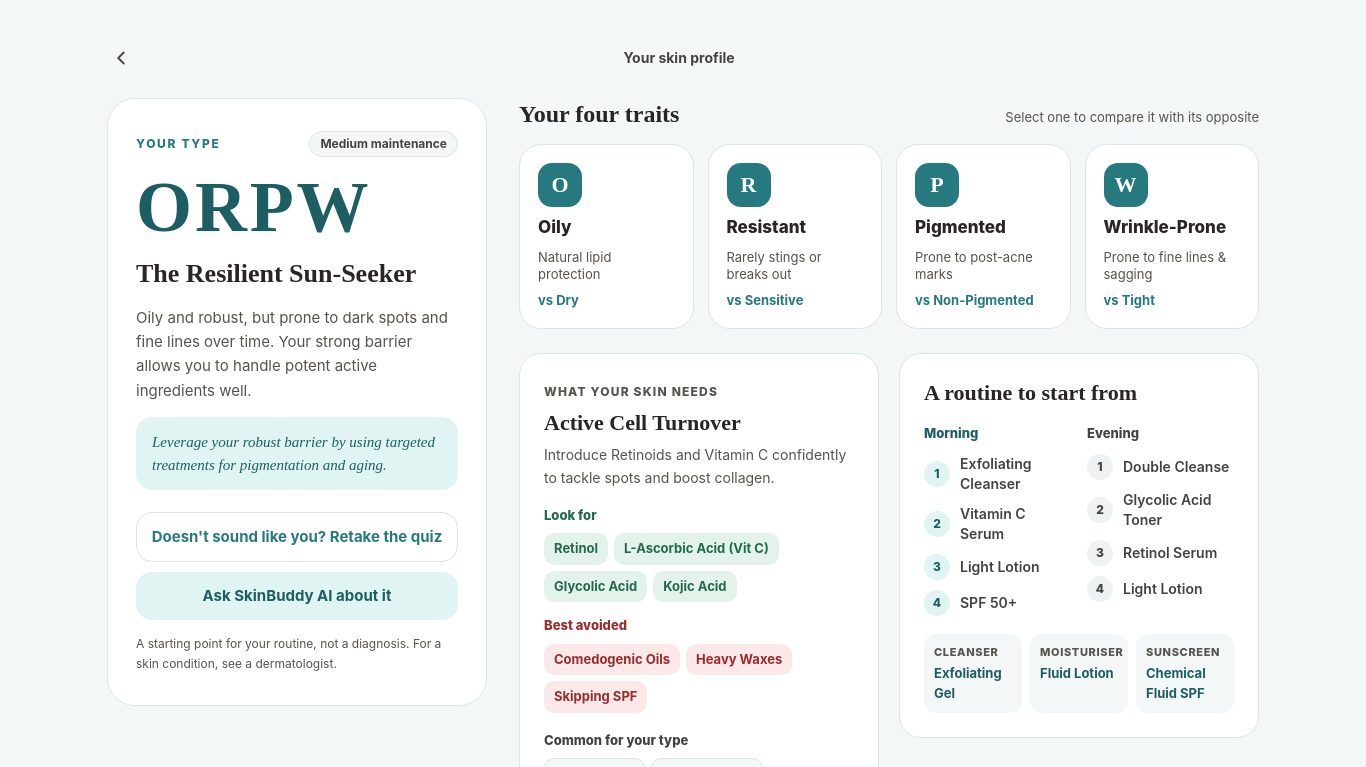
it: src/views/SkinProfileView.vue › comparison sheet › steps to the next trait with the next button
Click the button "O Oily Natural lipid protection vs Dry" at [606, 236], box [519,144,694,329]
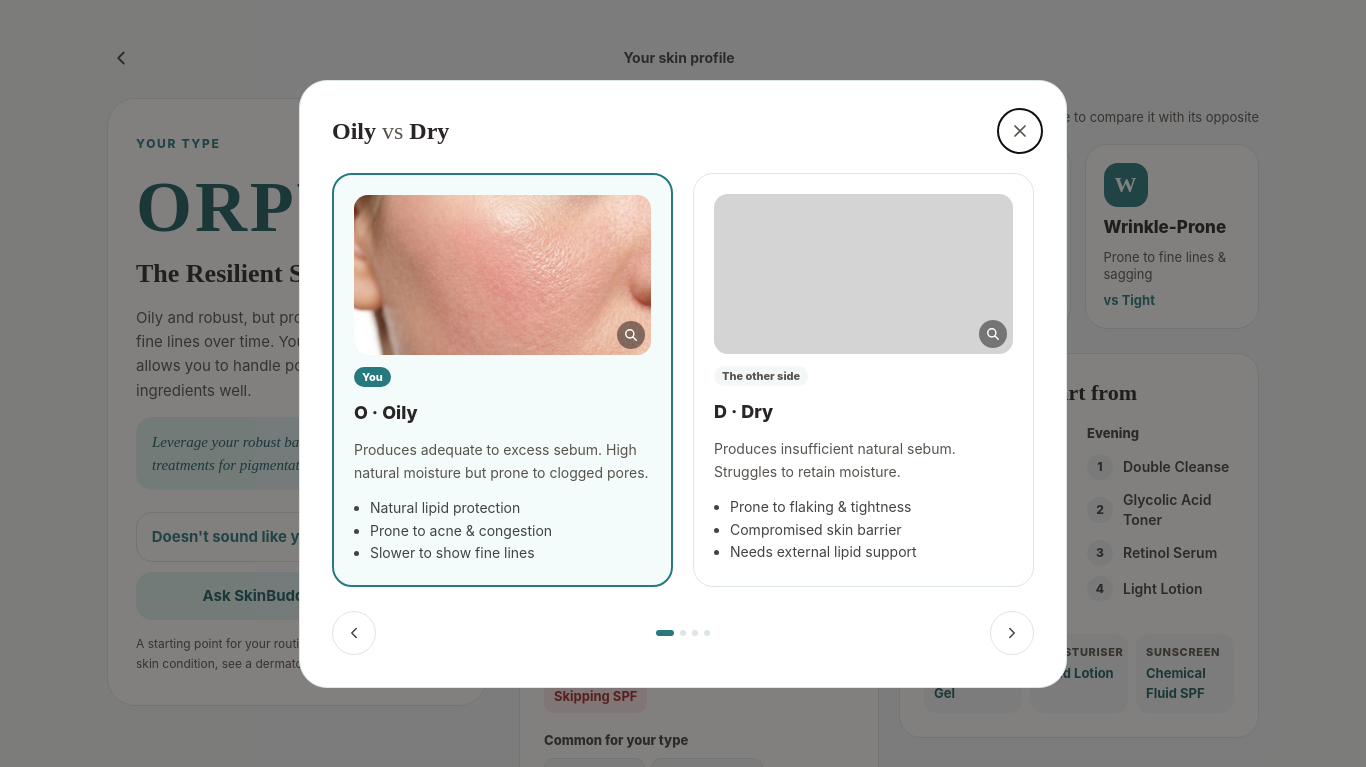
Click the button named "Next trait: Resistant vs Sensitive" at [1012, 633], box [990,611,1034,655]
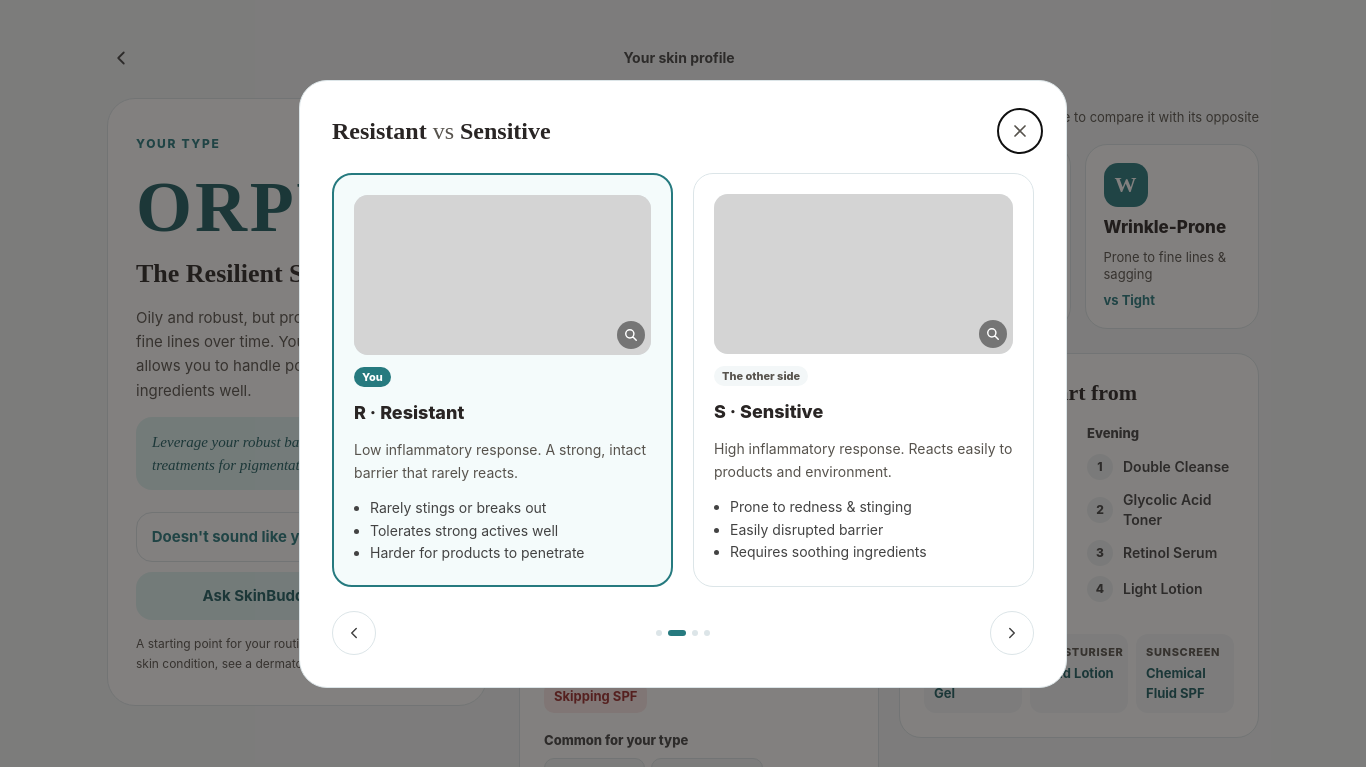
Result: the heading with id "trait-sheet-heading" reads "Resistant vs Sensitive" at [332,115,551,147]
